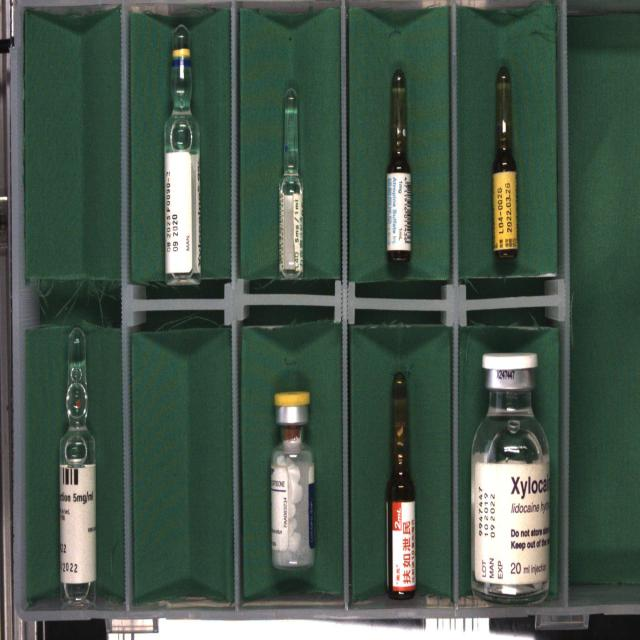Vials: (471, 353, 549, 601), (270, 391, 314, 568)
